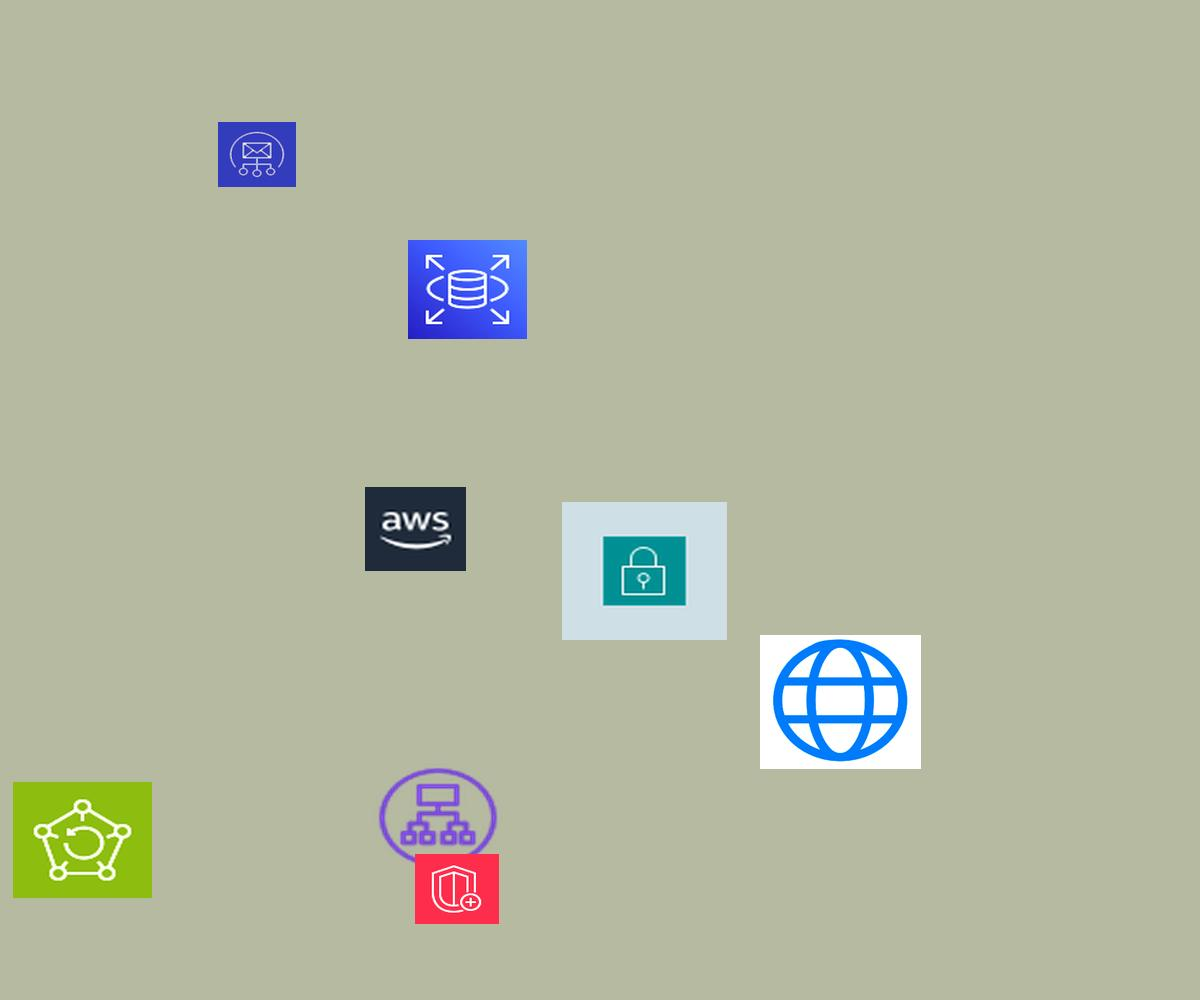AWS-Backup: (13, 782, 152, 898)
AWS-Cloud-logo: (365, 487, 466, 571)
AWS-Private-subnet: (562, 502, 727, 640)
AWS-RDS: (408, 240, 527, 339)
AWS-Res_Elastic-Load-Balancing_Application-Load-Balancer: (374, 764, 502, 871)
AWS-Shield: (415, 854, 499, 924)
AWS-Simple-Email-Service: (218, 122, 296, 187)
Azure_http: (760, 635, 921, 769)
